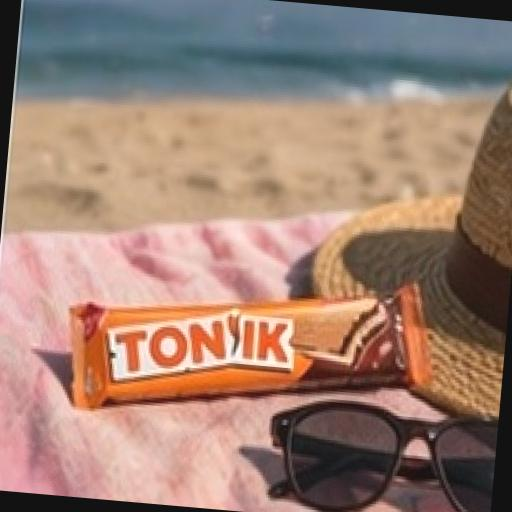tonik: (0, 193, 490, 512)
